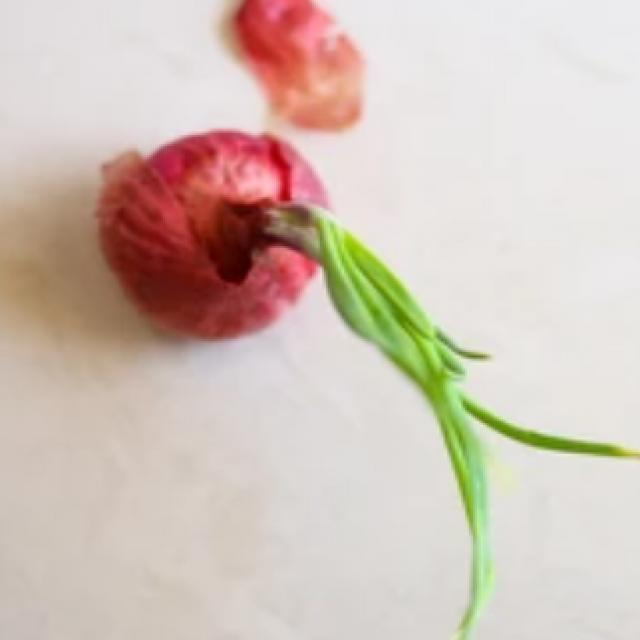sprouting: (268, 211, 533, 549)
